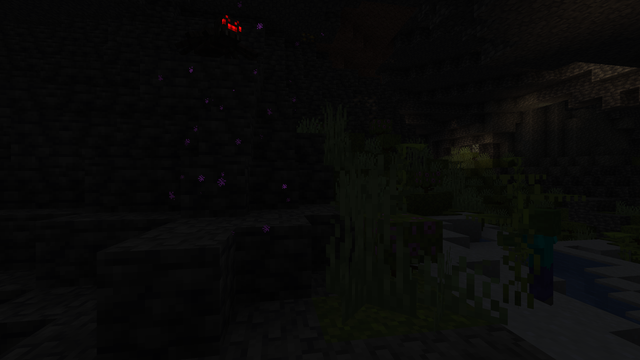araignees: (183, 5, 247, 59)
zombies: (515, 210, 568, 310)
